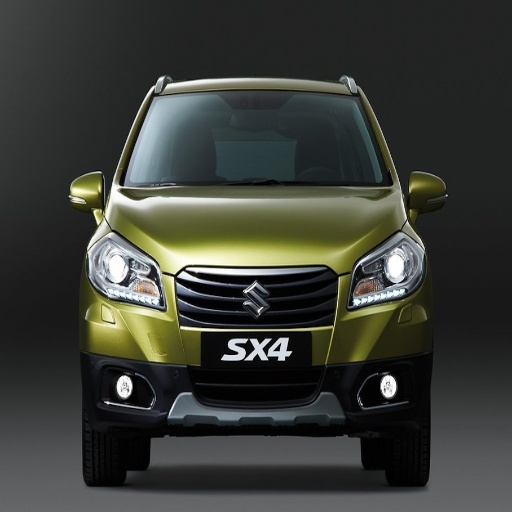front_bumper: (83, 266, 431, 427)
front_right_light: (90, 233, 169, 313)
hood: (108, 187, 401, 273)
left_mirror: (408, 170, 447, 212)
